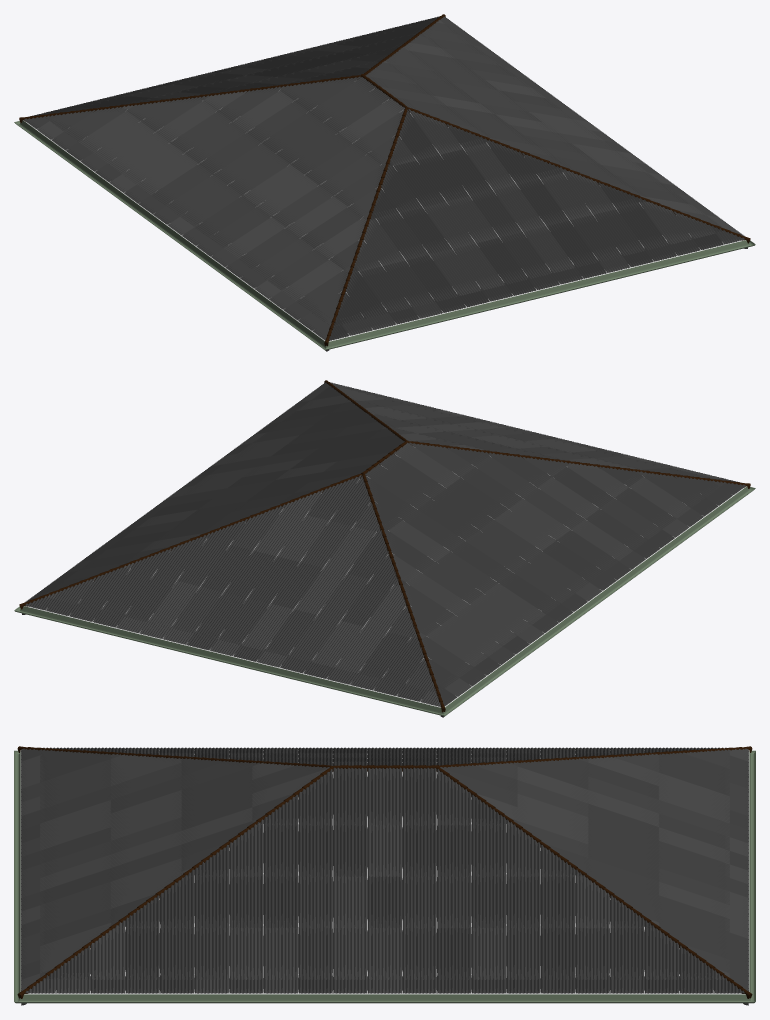
3 views of the same model, one above another, from view 1: azimuth 30°, elevation 25°; view 2: azimuth 150°, elevation 25°; view 3: azimuth 270°, elevation 25° (orthographic). The views are drawn at different scales.
Parts seen in each view (by area): view 1: Atap; view 2: Atap; view 3: Atap.
Boxes of the visible parts, bbox=[...] form: Atap: bbox=[14, 14, 755, 351]; Atap: bbox=[14, 380, 755, 717]; Atap: bbox=[14, 746, 755, 1005].
Size of the model in its own units: 18.38 by 4.01 by 22.95.
